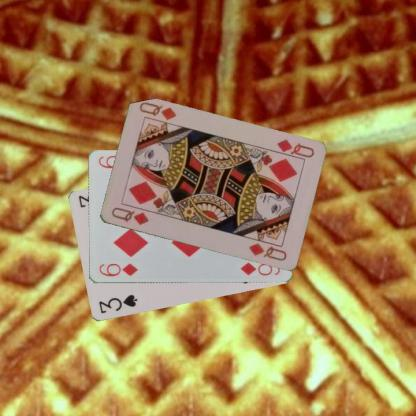3s: (96, 292, 139, 315)
6d: (96, 260, 140, 278)
Qd: (270, 137, 316, 162), (108, 205, 150, 227)
